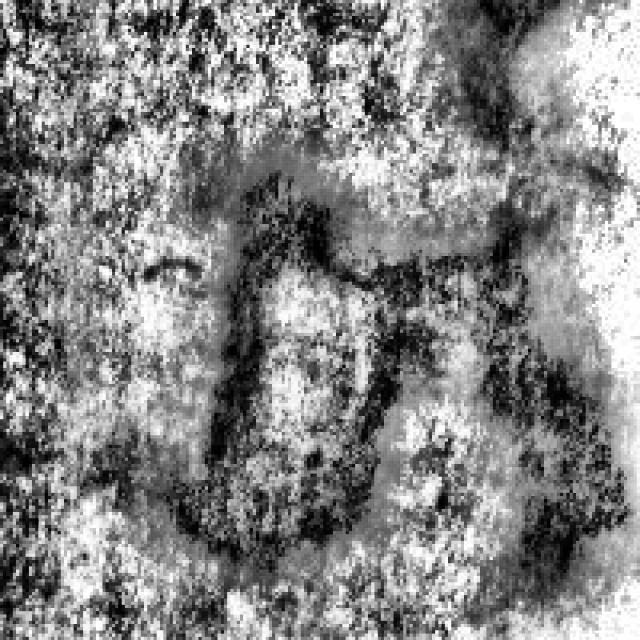Scratches: (154, 144, 428, 557), (442, 188, 634, 580), (448, 0, 579, 150)
